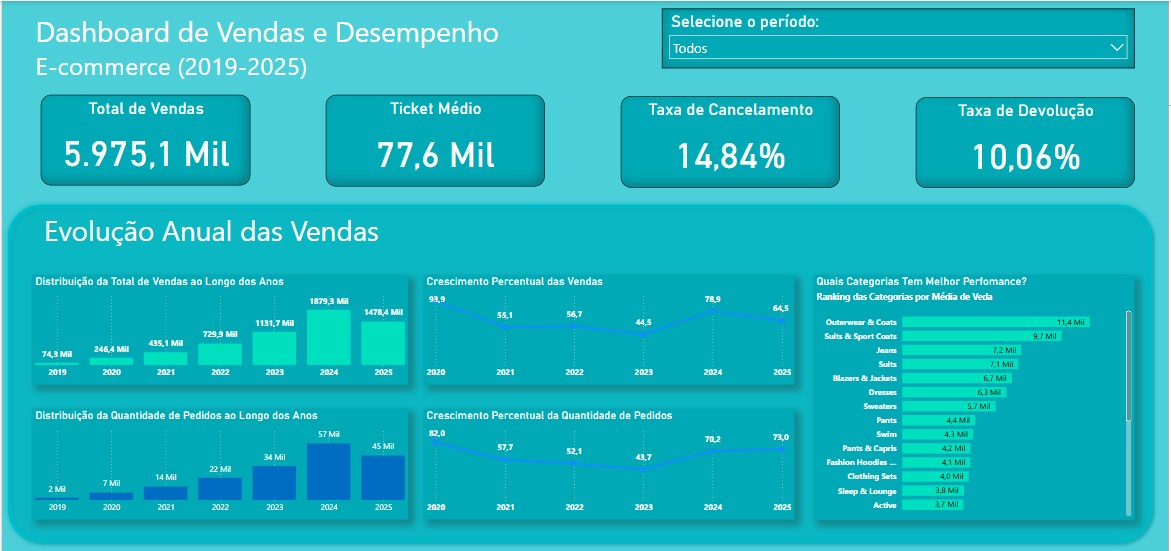

This screenshot's page, from the dashboard's own definition file:
{"tool":"powerbi","page":{"name":"Dash vendas","canvas":[1780,850],"ordinal":0},"visuals":[{"type":"shape","box":[0,301.5,1765.1,534.3],"z":0},{"type":"card","title":"Taxa de Cancelamento","fields":{"Values":["Avg(pct_cancelamentos.Pct_cancelados)"]},"box":[944.4,145.5,334.2,140.1],"z":1000},{"type":"card","title":"Taxa de Devolução","fields":{"Values":["Avg(pct_devolvidos.Pct_devolvidos)"]},"box":[1394.1,147.3,334.2,138.3],"z":2000},{"type":"card","title":"Total de Vendas","fields":{"Values":["Sum(vendas_mensais.Vendas)"]},"box":[59.3,143.7,319.8,138.3],"z":3000},{"type":"clusteredColumnChart","title":"Distribuição da Total de Vendas ao Longo dos Anos","fields":{"Y":["Sum(vendas_mensais.Vendas)"],"Category":["tempo_medio_entrega (2).Mes.Variation.Hierarquia de datas.Ano"]},"box":[45.8,417.9,574.4,167.9],"z":4000},{"type":"columnChart","title":"Distribuição da Quantidade de Pedidos ao Longo dos Anos","fields":{"Y":["Sum(qtde_pedidos.Total_pedidos)"],"Category":["qtde_pedidos.Mes.Variation.Hierarquia de datas.Ano"]},"box":[45.8,622.1,574.4,169.8],"z":5000},{"type":"slicer","fields":{"Values":["pct_cancelamentos.Mes.Variation.Hierarquia de datas.Ano","pct_cancelamentos.Mes.Variation.Hierarquia de datas.Mês"]},"box":[1007.6,11.4,721.3,91.6],"z":6000},{"type":"lineChart","title":"Crescimento Percentual das Vendas","fields":{"Y":["Sum(vendas_mensais.crescimento_pct)"],"Category":["tempo_medio_entrega (2).Mes.Variation.Hierarquia de datas.Ano"]},"box":[643.1,417.9,566.7,167.9],"z":7000},{"type":"lineChart","title":"Crescimento Percentual da Quantidade de Pedidos","fields":{"Y":["Sum(qtde_pedidos.crescimento_pct)"],"Category":["qtde_pedidos.Mes.Variation.Hierarquia de datas.Ano"]},"box":[643.1,622.1,566.7,169.8],"z":8000},{"type":"textbox","box":[45.8,11.4,961.8,152.7],"z":9000},{"type":"barChart","title":"Quais Categorias Tem Melhor Perfomance?","fields":{"Category":["ticket_medio.Categoria"],"Y":["Sum(ticket_medio.Media_venda)"]},"box":[1238.4,417.9,490.4,374],"z":10000},{"type":"card","title":"Ticket Médio","fields":{"Values":["vendas_mensais.Tiket_medio"]},"box":[494.6,143.7,334.2,140.1],"z":11000},{"type":"textbox","box":[59.2,314.9,1501.8,103],"z":12000}]}

Visuals, with their boxes in screenshot pixels (x1, y1, x2, y2), scaled from the page's 1780x850 canvas onto the 1171x551 screenshot:
shape: box=[0, 195, 1161, 542]
"Taxa de Cancelamento" card: box=[621, 94, 841, 185]
"Taxa de Devolução" card: box=[917, 95, 1137, 185]
"Total de Vendas" card: box=[39, 93, 249, 183]
"Distribuição da Total de Vendas ao Longo dos Anos" clusteredColumnChart: box=[30, 271, 408, 380]
"Distribuição da Quantidade de Pedidos ao Longo dos Anos" columnChart: box=[30, 403, 408, 513]
slicer - pct_cancelamentos.Mes.Variation.Hierarquia de datas.Ano x pct_cancelamentos.Mes.Variation.Hierarquia de datas.Mês: box=[663, 7, 1137, 67]
"Crescimento Percentual das Vendas" lineChart: box=[423, 271, 796, 380]
"Crescimento Percentual da Quantidade de Pedidos" lineChart: box=[423, 403, 796, 513]
textbox: box=[30, 7, 663, 106]
"Quais Categorias Tem Melhor Perfomance?" barChart: box=[815, 271, 1137, 513]
"Ticket Médio" card: box=[325, 93, 545, 184]
textbox: box=[39, 204, 1027, 271]
